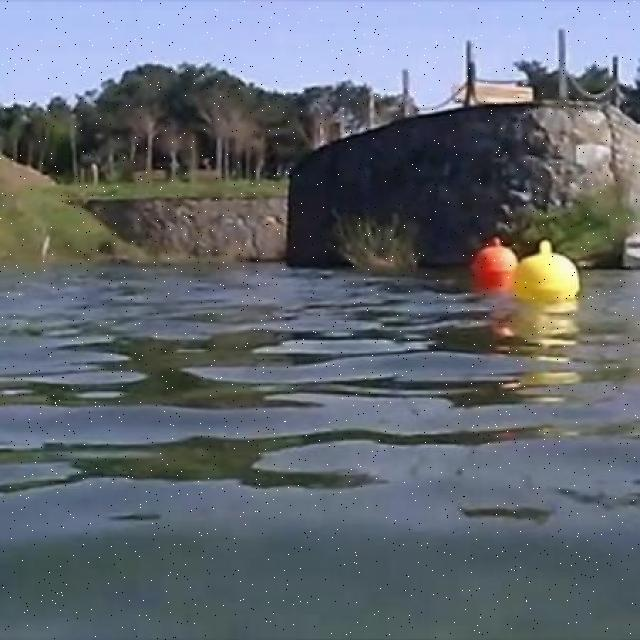buoy: (513, 241, 581, 301), (471, 238, 519, 294)
